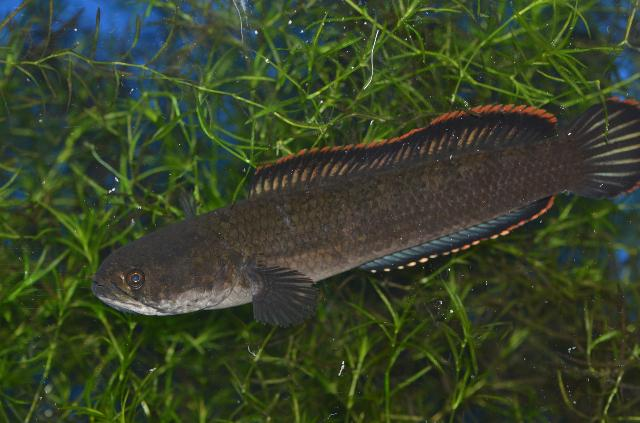Mulut: (78, 273, 170, 327)
Sirip Anal: (352, 190, 562, 280)
Sirip Dada: (233, 262, 329, 332), (164, 182, 208, 225)
Sirip Ekor: (562, 93, 640, 211)
Sirip Punggung: (245, 99, 563, 212)
